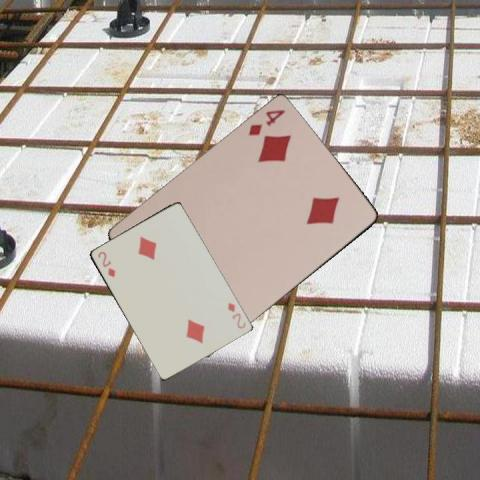2d: (224, 299, 247, 330), (94, 248, 116, 279)
4d: (245, 107, 287, 138)
